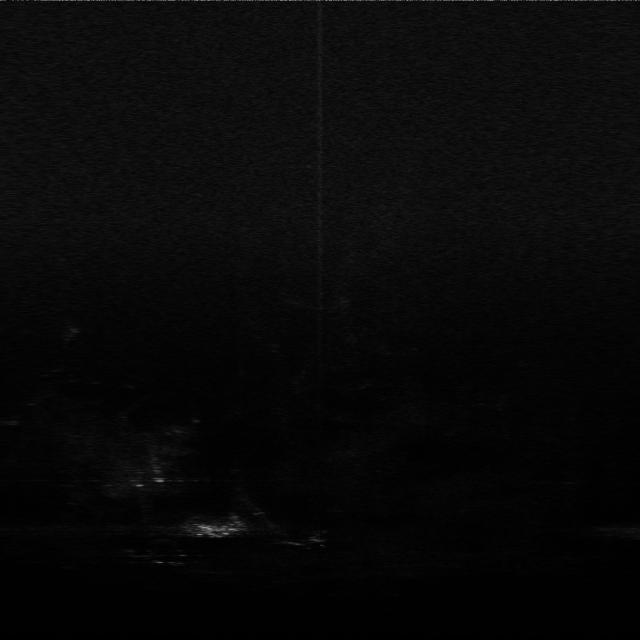rov: (193, 519, 246, 539)
